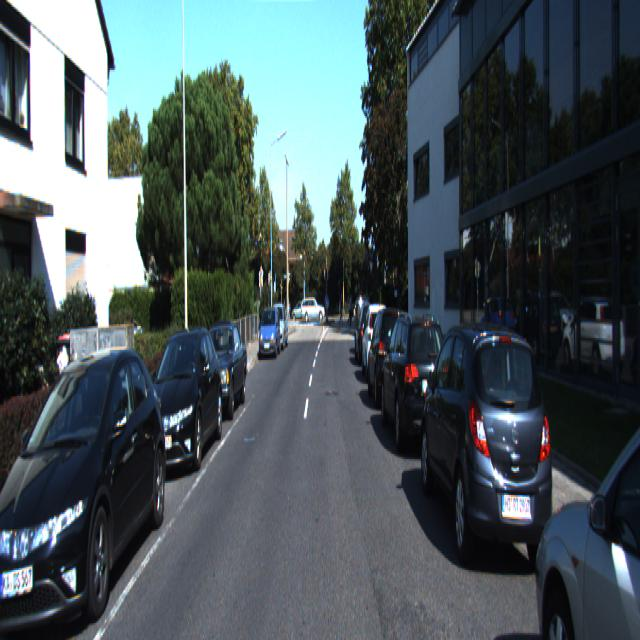Car: (0, 334, 172, 638), (420, 318, 561, 590), (536, 348, 640, 638), (140, 322, 224, 480), (379, 305, 455, 463), (192, 319, 249, 423), (367, 304, 413, 413), (361, 301, 394, 385), (354, 301, 382, 368), (259, 306, 281, 361)
